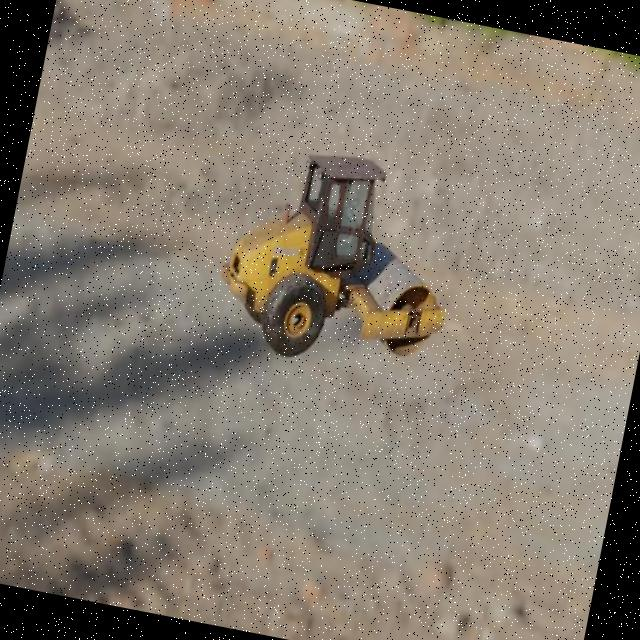Roller: (208, 134, 470, 386)
